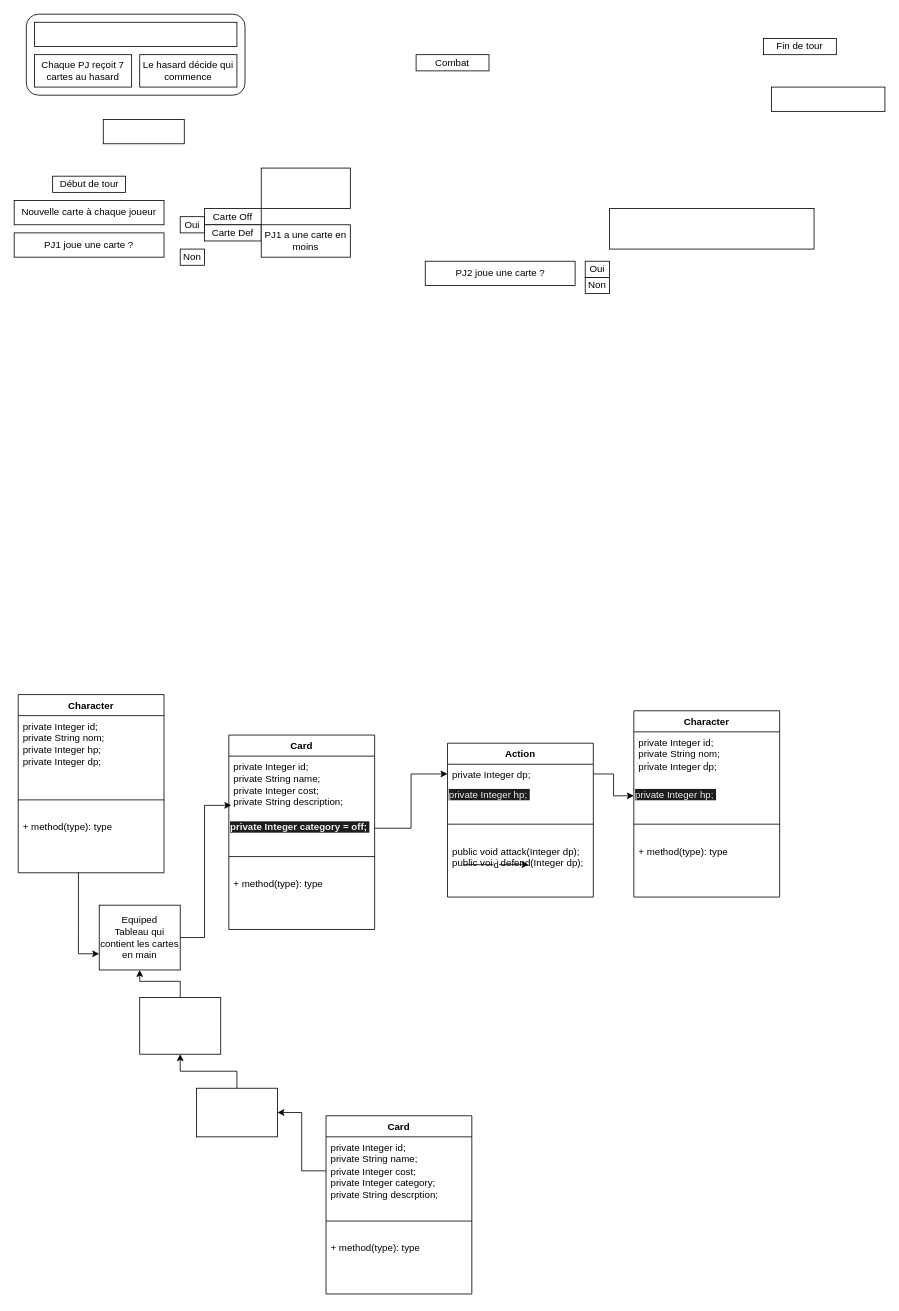
The diagram is 899 pixels wide and 1311 high, and some of its shapes have lost their labels. The centre of each missing label's shape, as x and y in pixels:
"Armory Tableau quii contient toutes les cartes du jeu" belongs at (x=236, y=1112).
"DP de CartePJ1 sont retirés de HP de PJ2" belongs at (x=305, y=188).
"DP de CartePJ1 sont retirés de HP de PJ2 PJ1 a une carte en moins" belongs at (x=711, y=228).
"Début de partie" belongs at (x=135, y=34).
"Learned Tableau qui contient les cartes dispo pour le pj" belongs at (x=180, y=1025).
"On affiche l'état des PJs" belongs at (x=828, y=98).
"Tour" belongs at (x=143, y=131).
